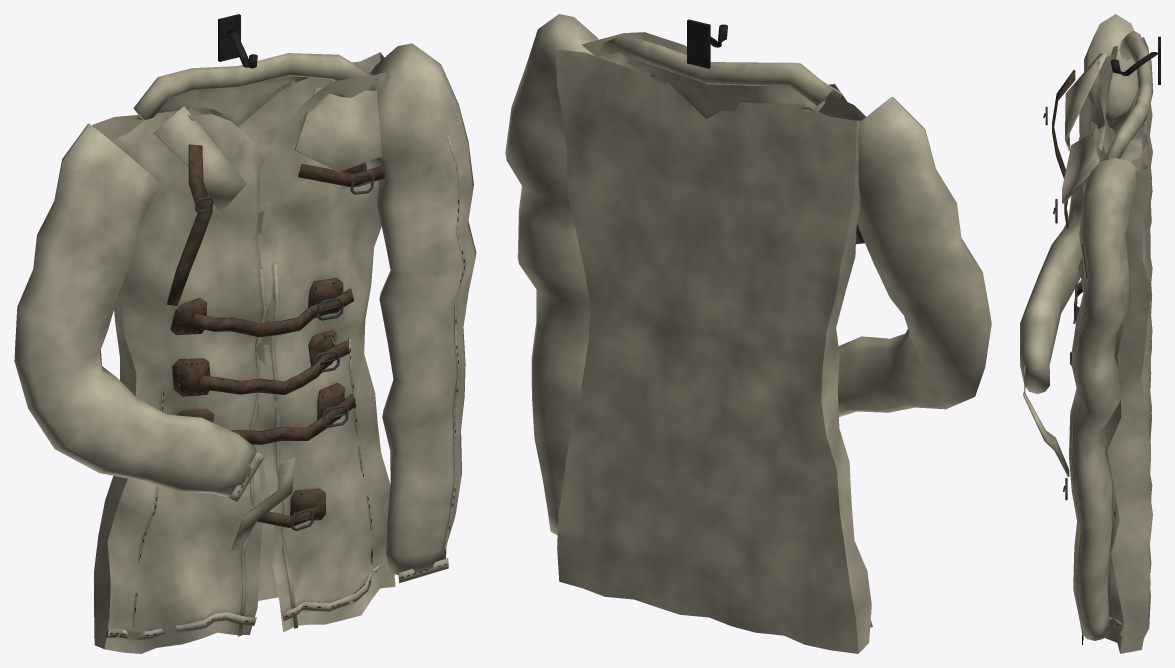
File: straitjacket.glb
3 views of the same model, side by side, from view 1: azimuth 30°, elevation 25°; view 2: azimuth 150°, elevation 25°; view 3: azimuth 270°, elevation 25° (orthographic). The views are drawn at different scales.
Parts seen in each view (by area): view 1: Straitjacket_Game; view 2: Straitjacket_Game; view 3: Straitjacket_Game.
Boxes of the visible parts, x1,y1,x2,y2 form: Straitjacket_Game: [14, 14, 476, 653]; Straitjacket_Game: [505, 14, 991, 653]; Straitjacket_Game: [1020, 14, 1160, 653].
Bounding box in the file's own units: 0.9607 × 1.18 × 0.2712.
1 material, 1 textured.
